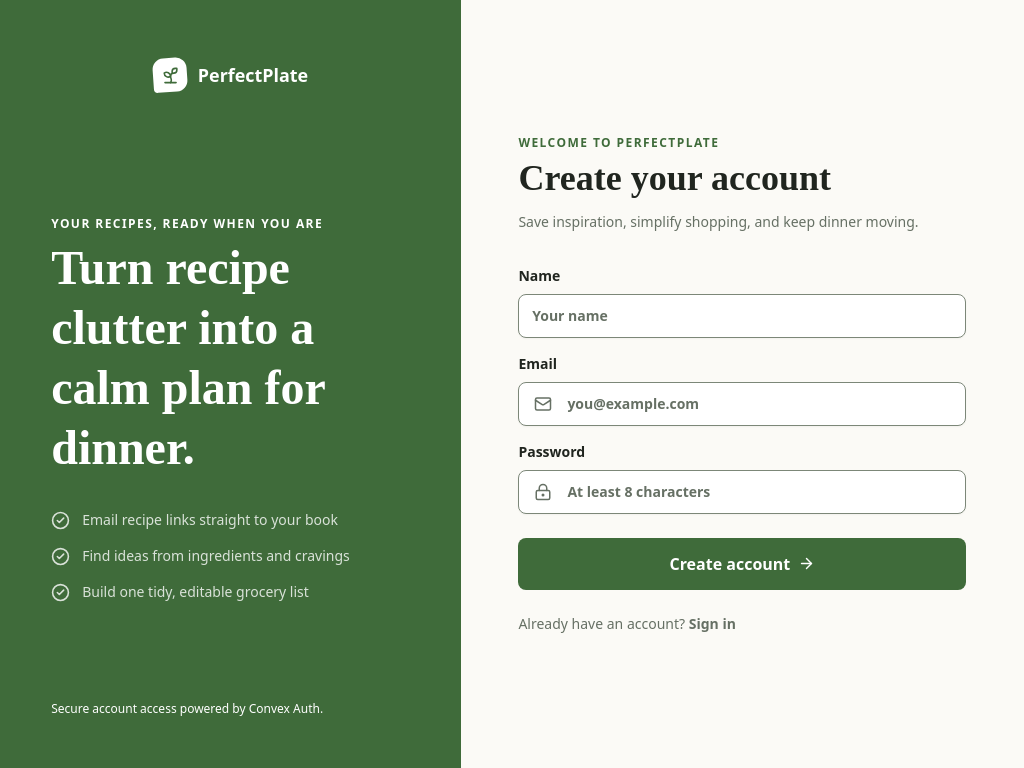
AuthForm › explains when a sign-up email already has an account
The width and height of the screenshot is (1024, 768).
Type "Home Cook" into the field labelled "Name". click: (742, 316)
box: 518,294 -> 966,338
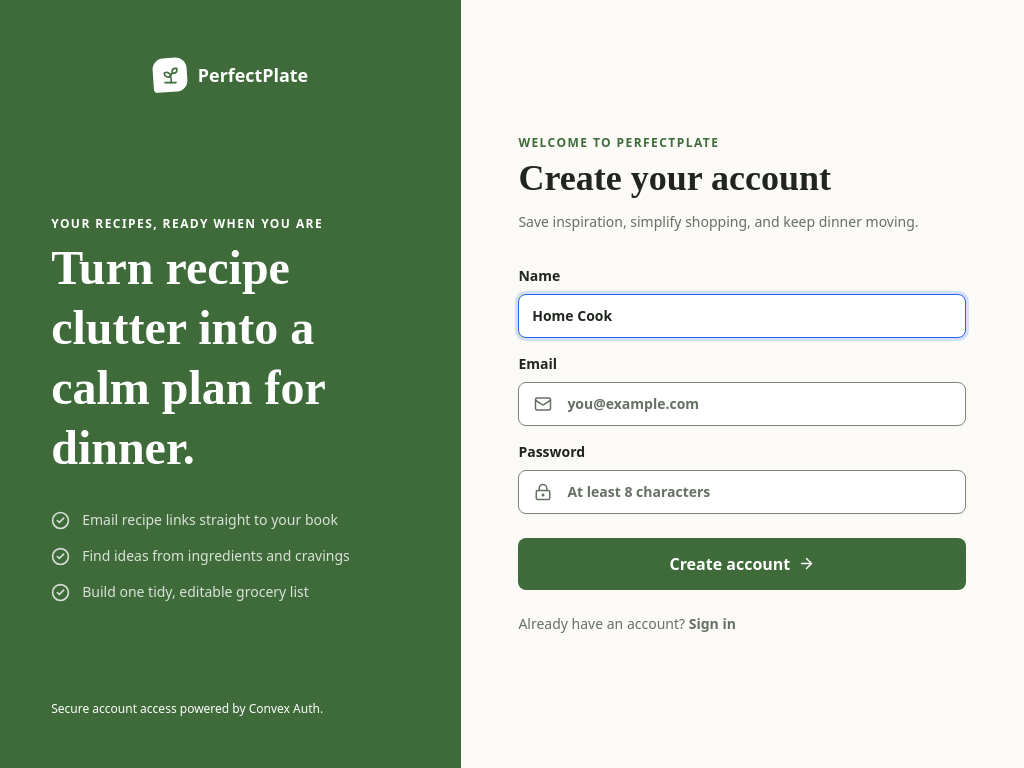
Type "cook@example.com" into the field labelled "Email". click: (742, 404)
box: 518,382 -> 966,426
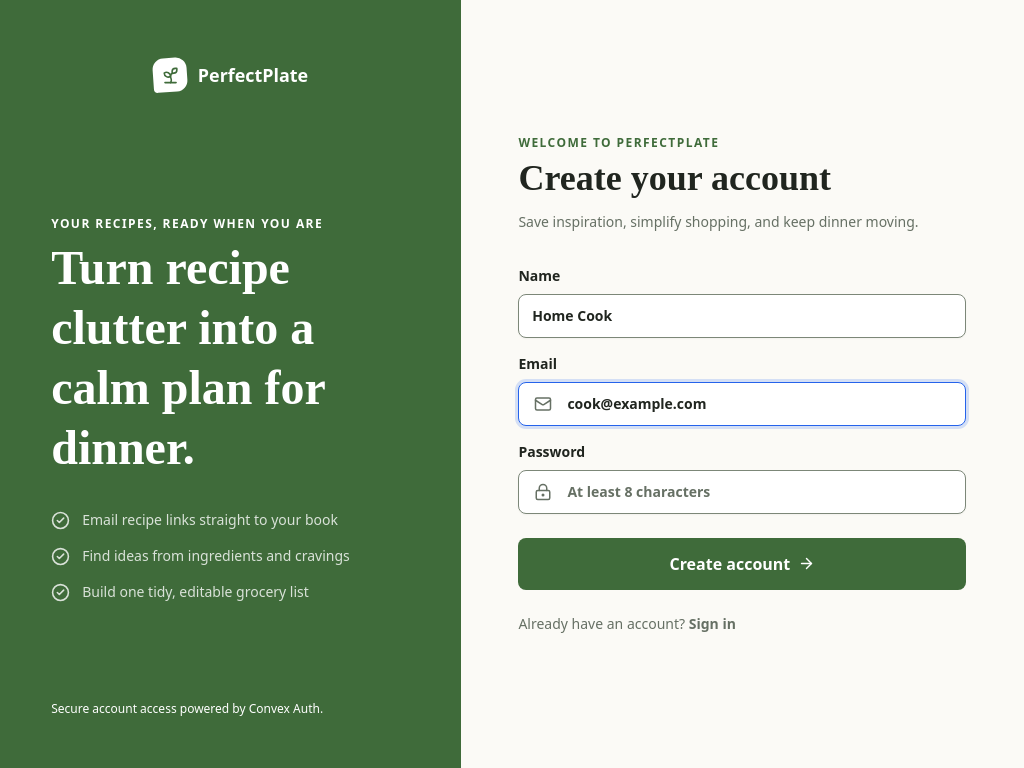
Type "password123" into the password field labelled "Password". click: (742, 492)
box: 518,470 -> 966,514
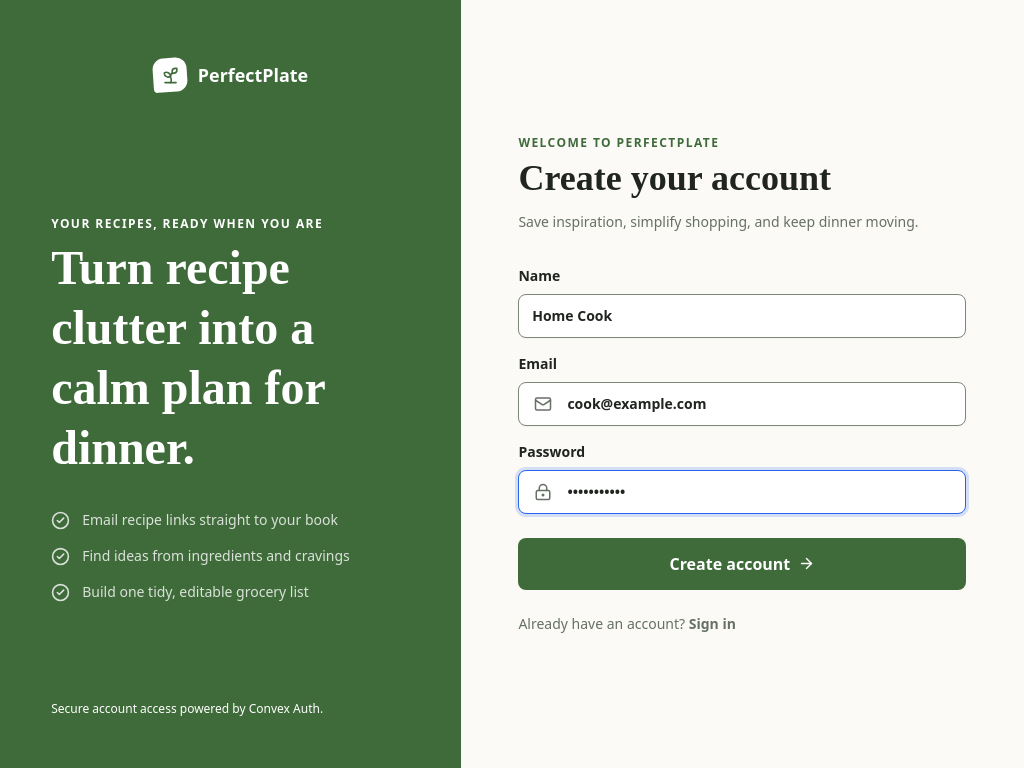
Click the button "Create account". click: (742, 564)
box: 518,538 -> 966,590
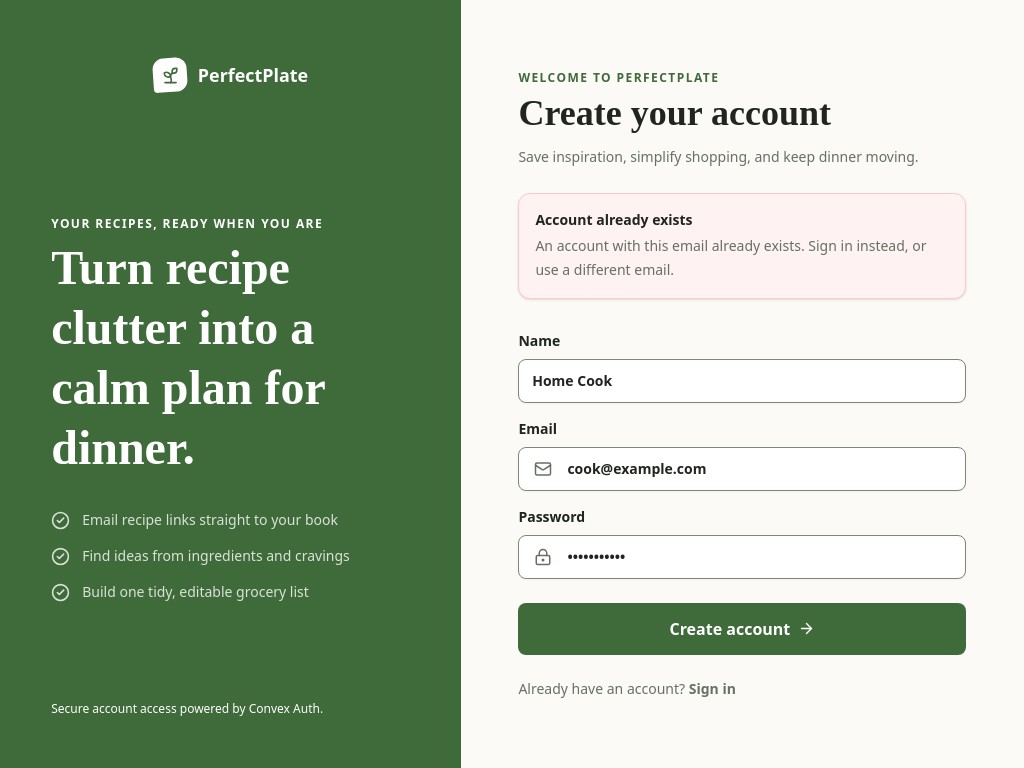
Now the message shows "Account already exists", box 535,210 -> 693,229
Now the message shows "An account with this email already exists. Sign in instead, or use a different email.", box 535,236 -> 926,279
